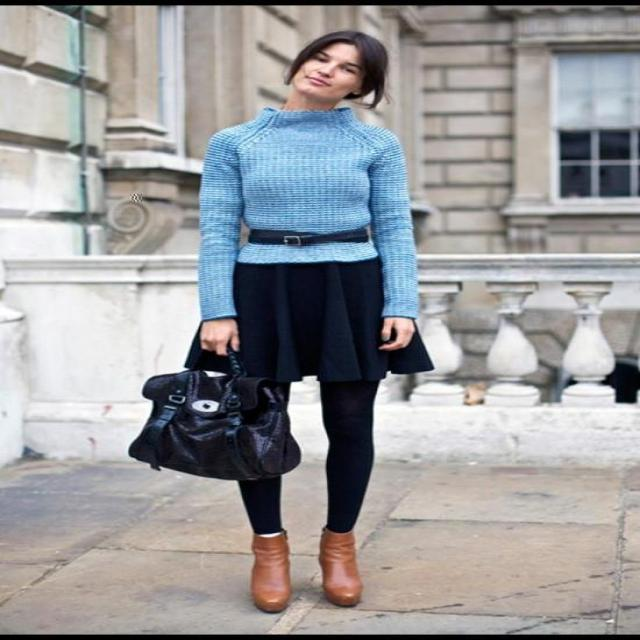skirt: (182, 253, 435, 382)
sweater: (198, 107, 420, 323)
